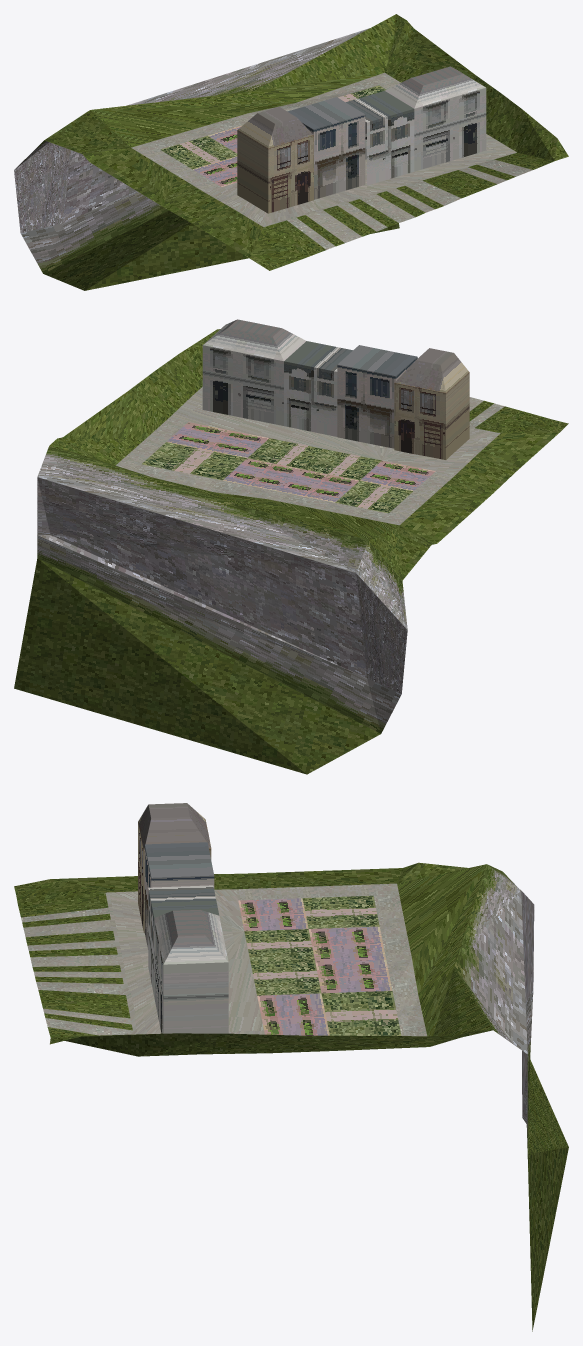
File: lod_sfw_boxwest10.obj
The picture shows the model from 3 angles, top to bottom: view 1: azimuth 30°, elevation 25°; view 2: azimuth 150°, elevation 25°; view 3: azimuth 270°, elevation 25°; orthographic projection. The views are drawn at different scales.
Parts seen in each view (by area): view 1: lod_sfw_boxwest10; view 2: lod_sfw_boxwest10; view 3: lod_sfw_boxwest10.
Part boxes in pixels (left/top/right/bottom): lod_sfw_boxwest10: left=14, top=14, right=568, bottom=290; lod_sfw_boxwest10: left=14, top=319, right=568, bottom=774; lod_sfw_boxwest10: left=14, top=803, right=568, bottom=1331.
Size of the model in its own units: 51.18 by 36.03 by 50.73.
Materials: 10 (10 with a texture image).
